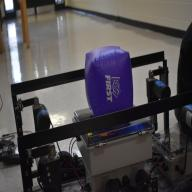cube: (85, 46, 133, 116)
